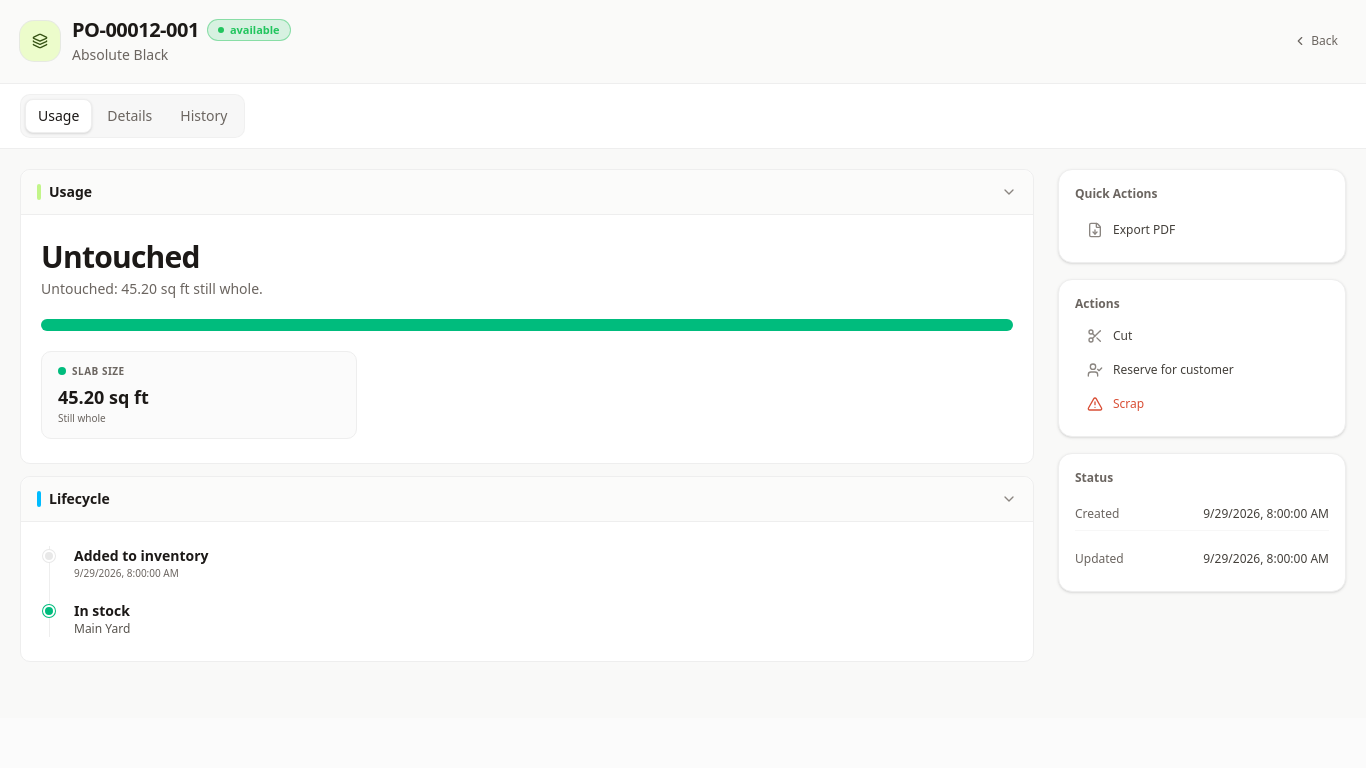
UnitDetailPage › keeps the static facts on a Details tab
Expected: the text "Untouched" is shown, [41,236,200,277]
Click the button "Details". click: point(130, 116)
box: [94,99,165,133]
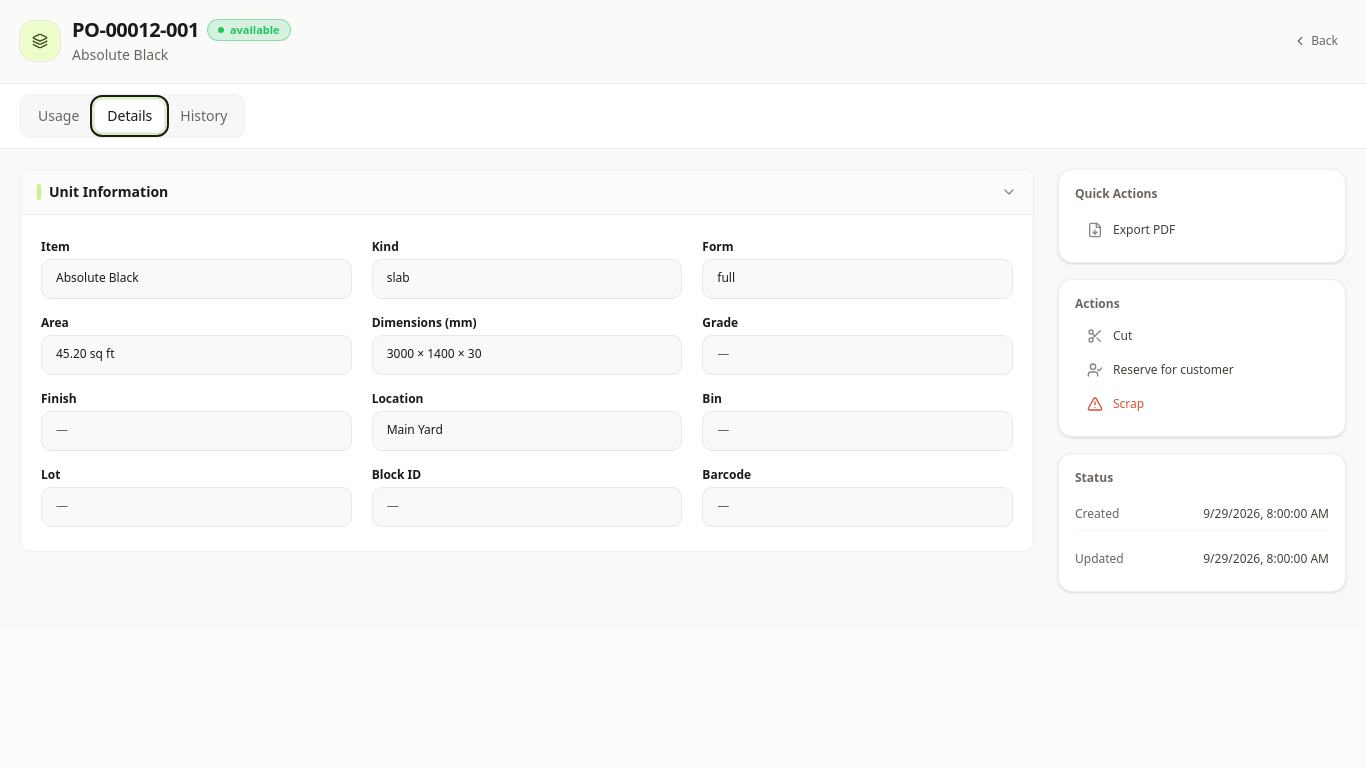
Expected: the text "45.20 sq ft" is shown, [41,335,352,375]
Expected: the heading "Unit Information" is shown, [49,182,168,202]
